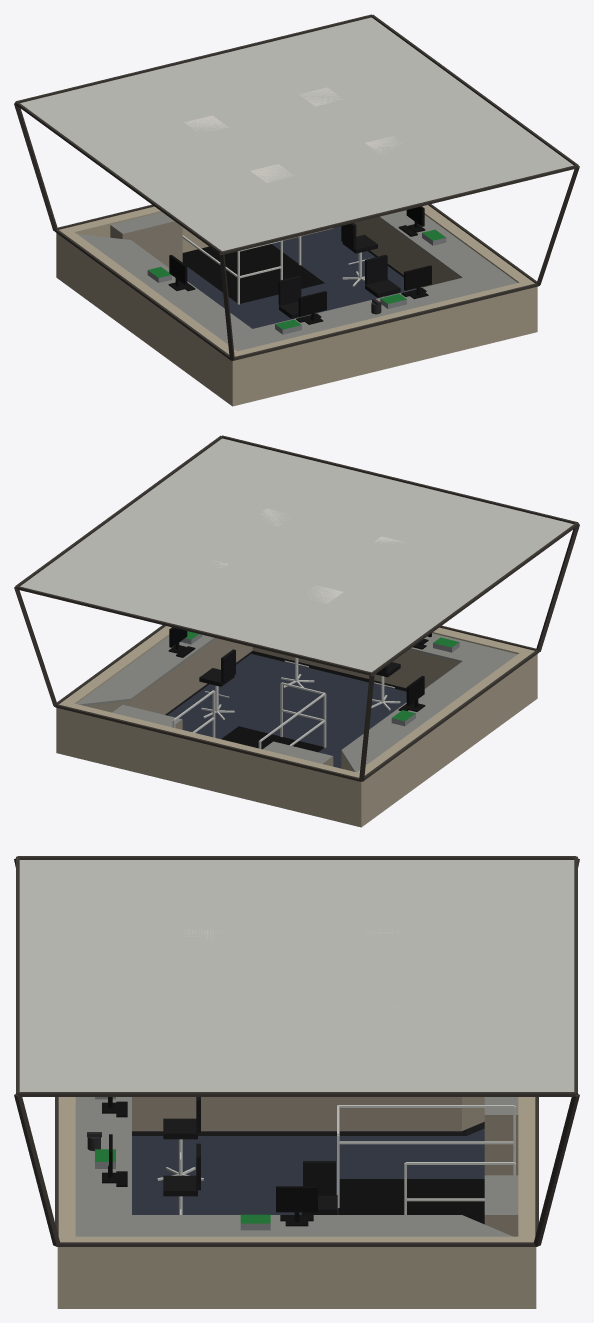
Rendered from class_d_tower_interior.gltf.
The picture shows the model from 3 angles, top to bottom: view 1: azimuth 30°, elevation 25°; view 2: azimuth 150°, elevation 25°; view 3: azimuth 270°, elevation 25°; orthographic projection. The views are drawn at different scales.
Parts seen in each view (by area): view 1: ClassD_Interior; view 2: ClassD_Interior; view 3: ClassD_Interior.
Part boxes in pixels (x1=…): ClassD_Interior: x1=14, y1=14, x2=579, y2=406; ClassD_Interior: x1=14, y1=435, x2=579, y2=827; ClassD_Interior: x1=14, y1=856, x2=579, y2=1308.
Size of the model in its own units: 7.54 by 3.44 by 7.54.
